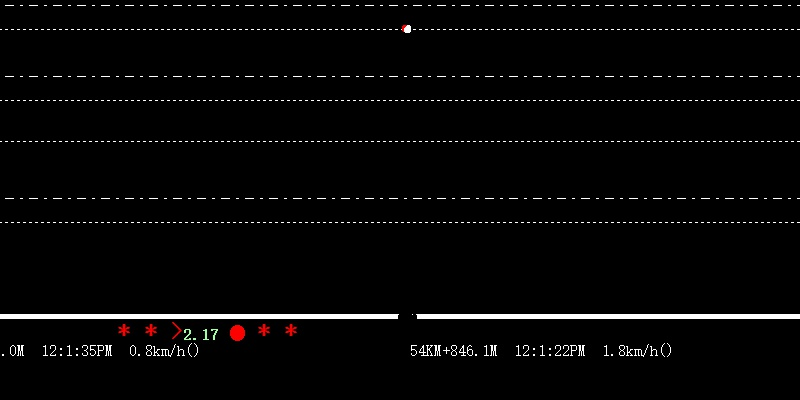circle: (229, 326, 246, 340)
face_s: (398, 22, 412, 35)
star: (256, 321, 272, 339), (116, 319, 130, 338), (283, 321, 298, 338), (144, 321, 157, 337)
